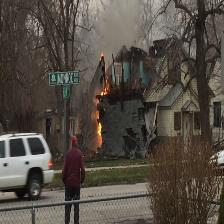smoke: (98, 13, 139, 46)
